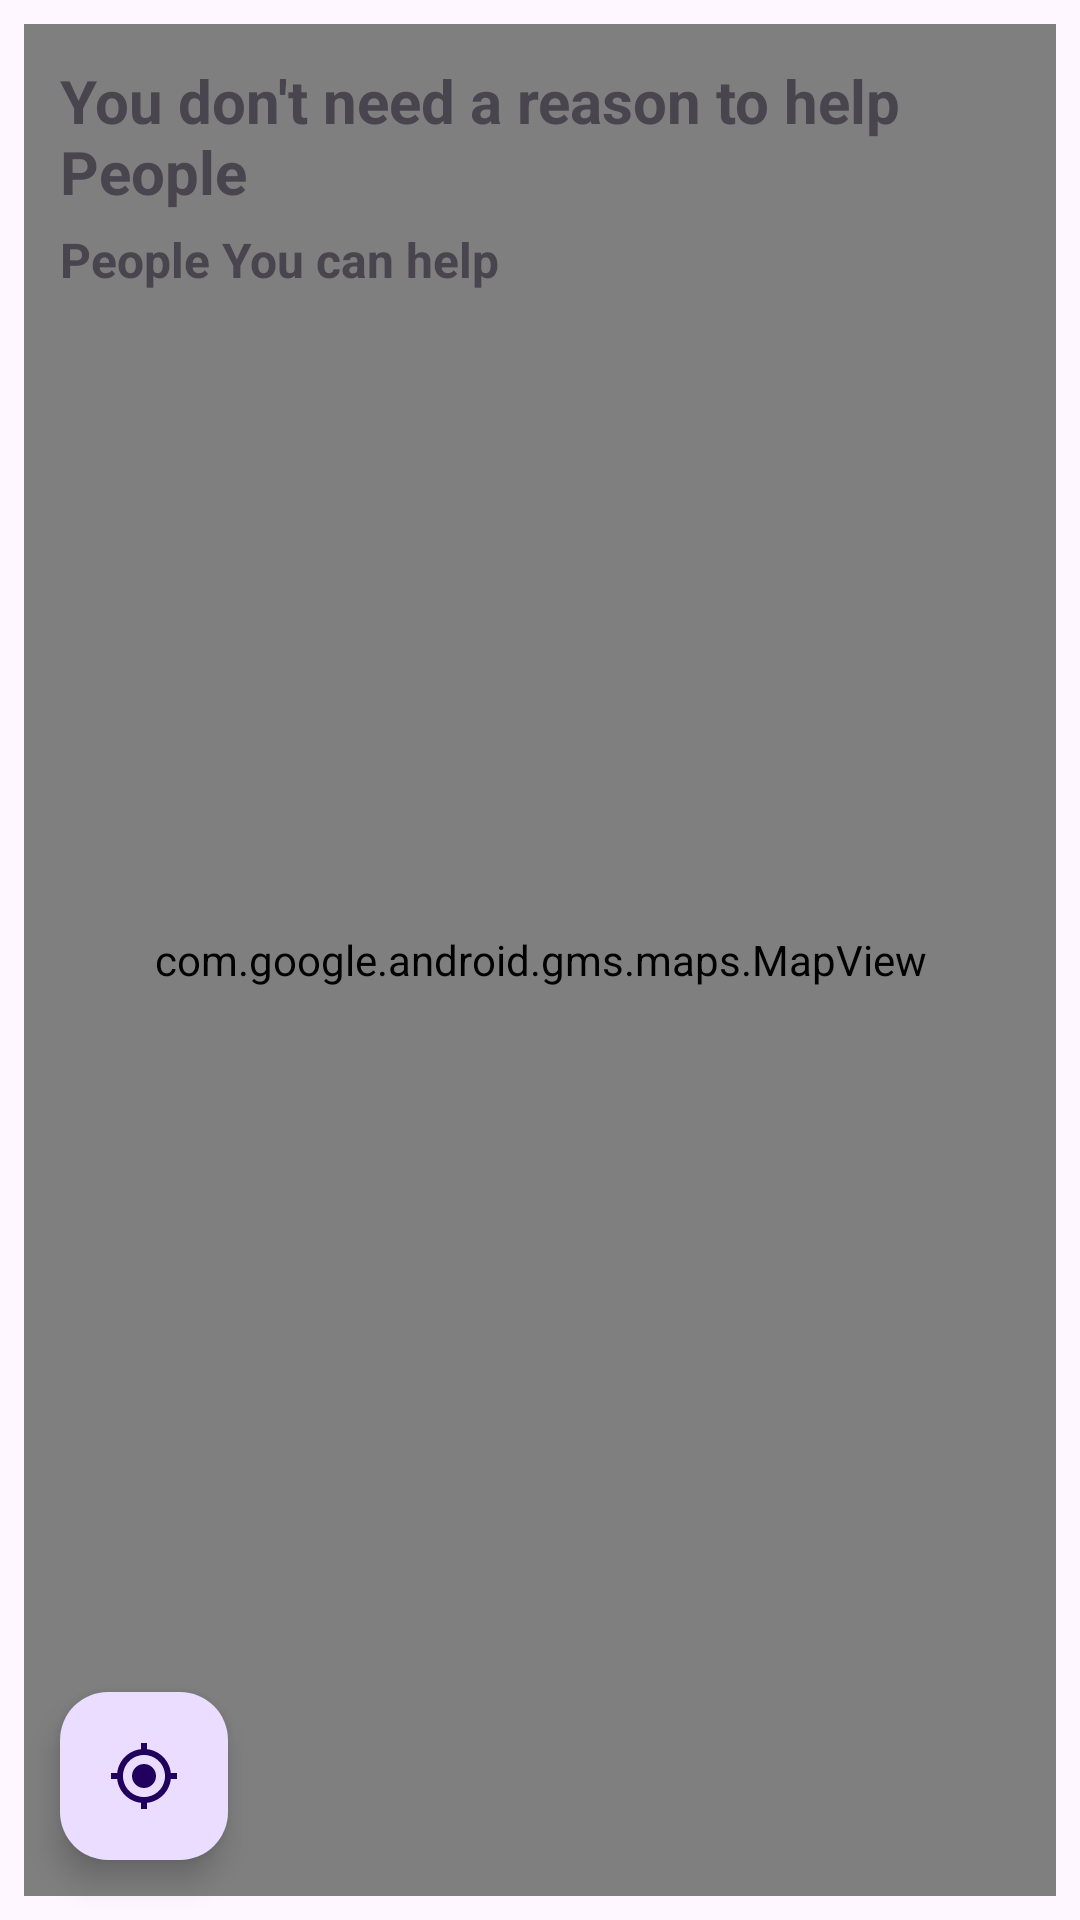

Icons on this 1080 x 1920 Android screen, each with its box as (x1, y1, x2, y2):
location: (60, 1692, 228, 1860)
